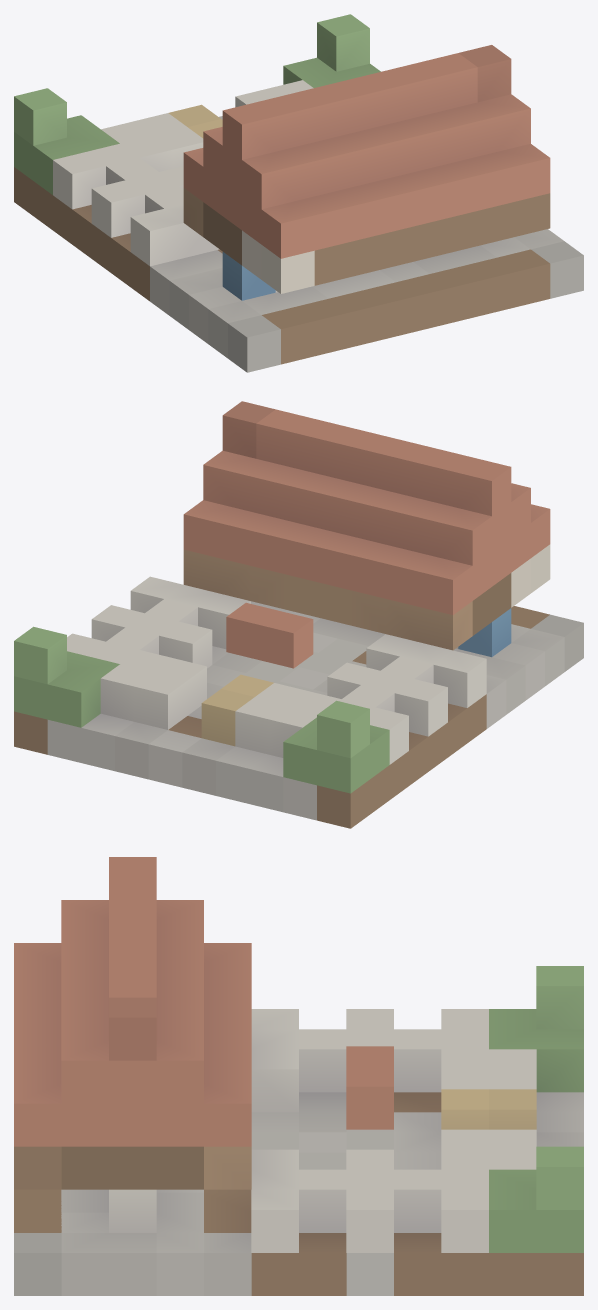
The model's file is market_small.l2.lite.glb.
3 views of the same model, one above another, from view 1: azimuth 30°, elevation 25°; view 2: azimuth 150°, elevation 25°; view 3: azimuth 270°, elevation 25° (orthographic). The views are drawn at different scales.
Visible parts, largest first — view 1: market_small; view 2: market_small; view 3: market_small.
Part boxes in pixels (x1,y1,x2,y2): market_small: (14, 14, 583, 372); market_small: (14, 401, 583, 828); market_small: (14, 857, 583, 1295).
Bounding box in the file's own units: 5 × 3 × 6.
